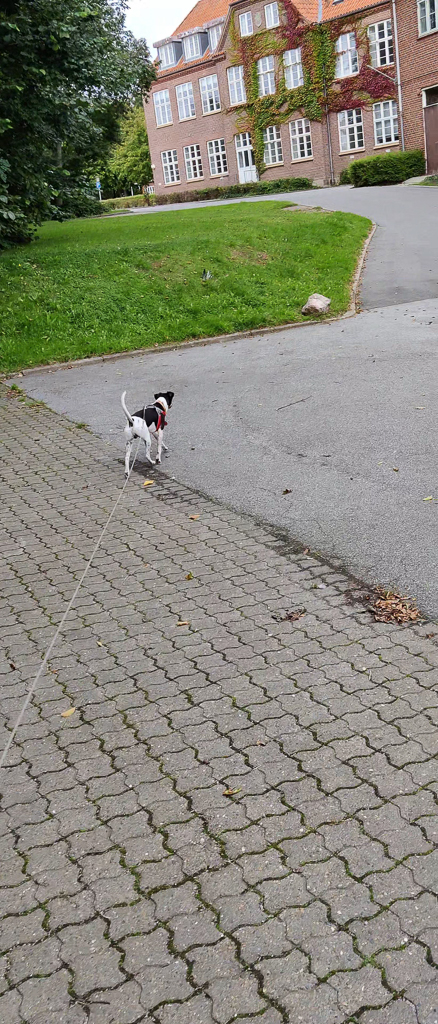Dog: (112, 384, 189, 484)
